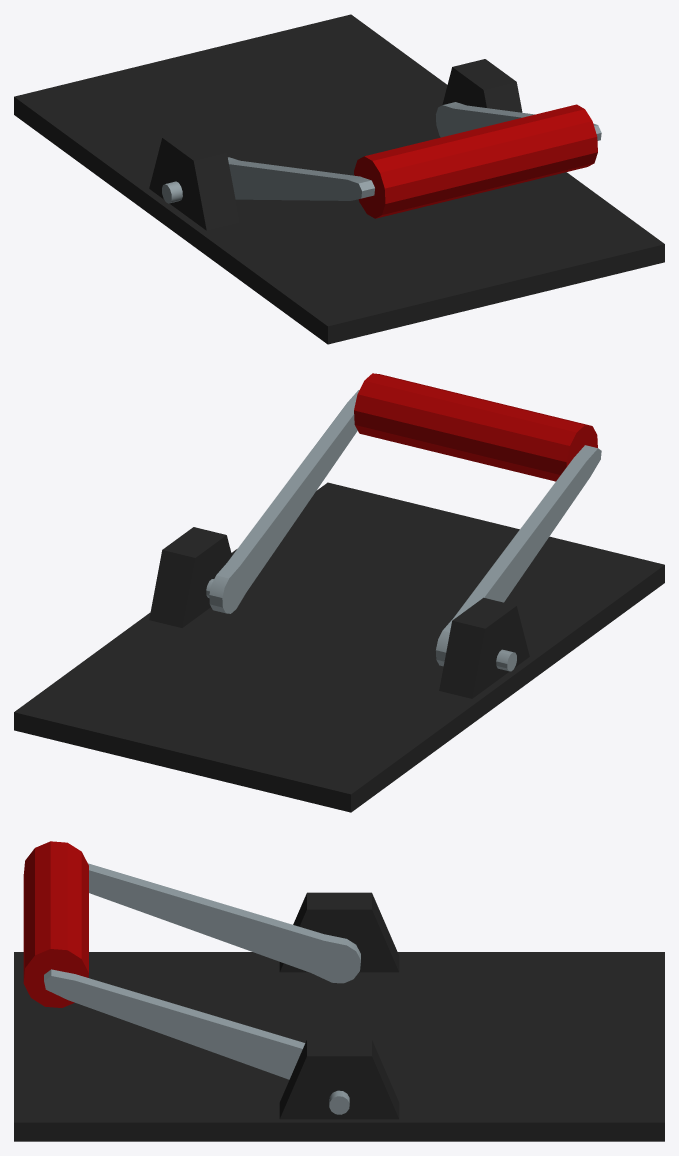
File: Switch@Down.fbx
The picture shows the model from 3 angles, top to bottom: view 1: azimuth 30°, elevation 25°; view 2: azimuth 150°, elevation 25°; view 3: azimuth 270°, elevation 25°; orthographic projection. The views are drawn at different scales.
Parts seen in each view (by area): view 1: Switch2, Caoutchouc, SwitchMain, Switch_R_support, Switch_L_support; view 2: Switch2, Caoutchouc, SwitchMain, Switch_R_support, Switch_L_support; view 3: Switch2, SwitchMain, Caoutchouc, Switch_L_support, Switch_R_support.
Boxes of the visible parts, left/top/right/bottom form: Switch2: left=14, top=14, right=664, bottom=344; Caoutchouc: left=354, top=104, right=597, bottom=218; SwitchMain: left=162, top=102, right=601, bottom=203; Switch_R_support: left=149, top=129, right=239, bottom=230; Switch_L_support: left=442, top=59, right=522, bottom=112; Switch2: left=14, top=482, right=664, bottom=812; Caoutchouc: left=354, top=373, right=597, bottom=481; SwitchMain: left=206, top=390, right=601, bottom=671; Switch_R_support: left=439, top=597, right=529, bottom=698; Switch_L_support: left=149, top=527, right=231, bottom=627; Switch2: left=14, top=952, right=664, bottom=1141; SwitchMain: left=44, top=863, right=360, bottom=1114; Caoutchouc: left=23, top=841, right=88, bottom=1007; Switch_L_support: left=279, top=1039, right=399, bottom=1119; Switch_R_support: left=279, top=892, right=399, bottom=972.
Bounding box in the file's own units: 63.54 × 27.33 × 100.
